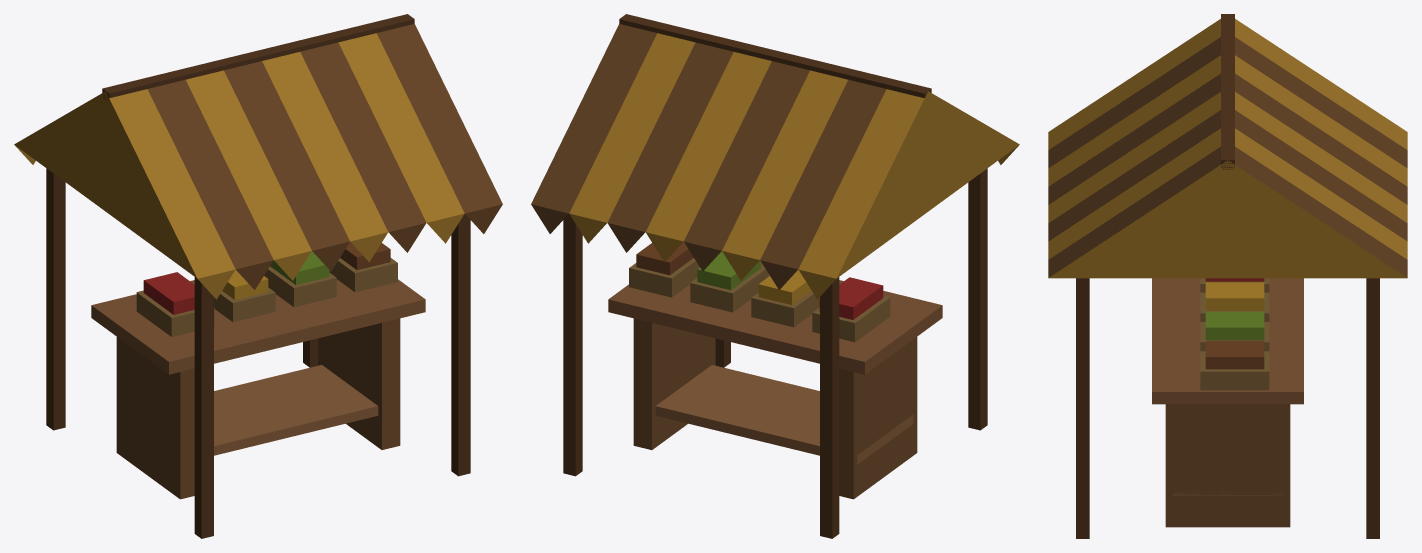
The model's file is stall-ochre.glb.
3 renders of one model, left to right at view 1: azimuth 30°, elevation 25°; view 2: azimuth 150°, elevation 25°; view 3: azimuth 270°, elevation 25°, orthographic. The views are drawn at different scales.
Parts seen in each view (by area): view 1: stall-ochre; view 2: stall-ochre; view 3: stall-ochre.
Boxes of the visible parts, x1,y1,x2,y2 form: stall-ochre: (14,14,502,538); stall-ochre: (531,14,1019,538); stall-ochre: (1048,14,1407,538).
Bounding box in the file's own units: 1 × 1.24 × 1.04.
